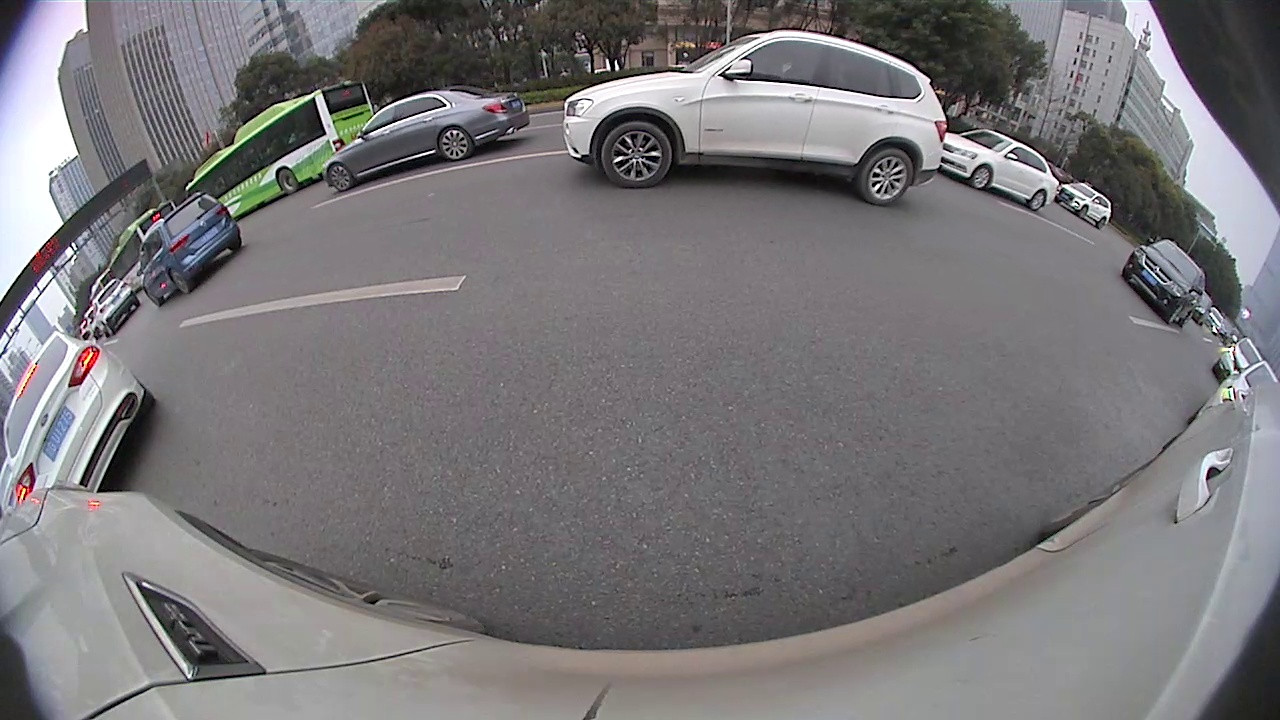bus: (183, 77, 380, 220)
car: (564, 27, 946, 211), (2, 330, 158, 498), (324, 86, 532, 193), (136, 186, 244, 306), (940, 125, 1059, 220), (1118, 236, 1207, 331)
front: (598, 118, 676, 188), (327, 163, 353, 193), (970, 165, 992, 191)
rear: (858, 144, 915, 205), (438, 127, 475, 163), (168, 268, 191, 297), (278, 167, 301, 194), (1028, 188, 1047, 212)
